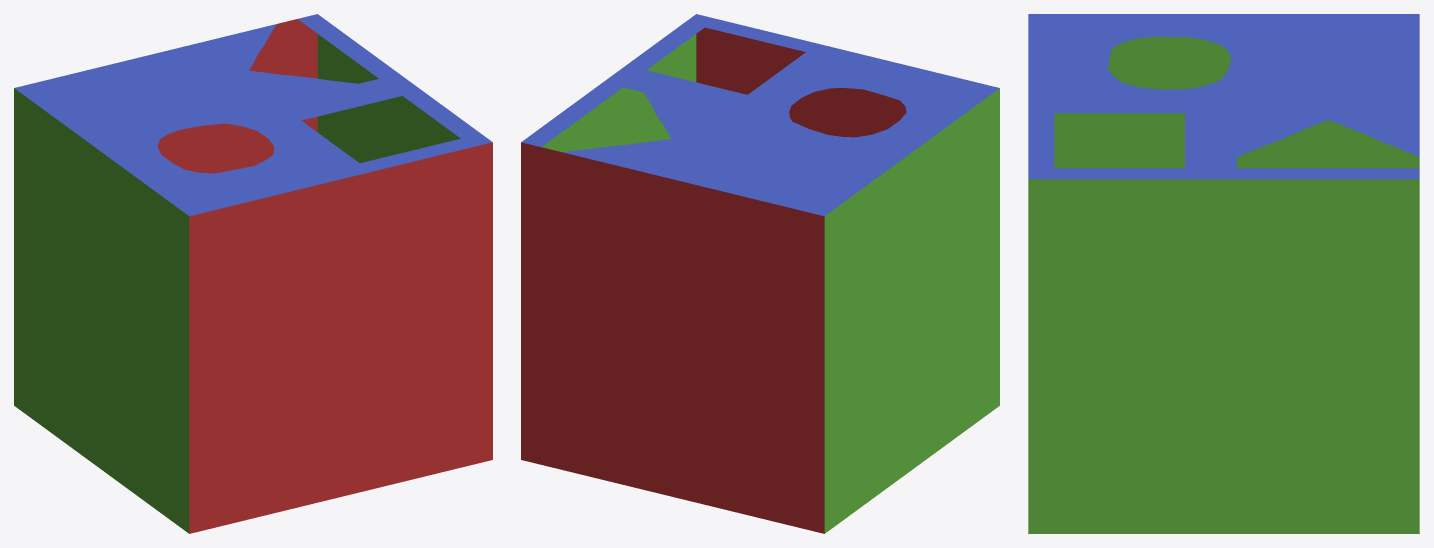
The picture shows the model from 3 angles, left to right: view 1: azimuth 30°, elevation 25°; view 2: azimuth 150°, elevation 25°; view 3: azimuth 270°, elevation 25°; orthographic projection. The views are drawn at different scales.
Parts seen in each view (by area): view 1: Box; view 2: Box; view 3: Box.
Boxes of the visible parts, x1,y1,x2,y2 form: Box: (14,14,492,533); Box: (521,14,999,533); Box: (1028,14,1419,533).
Bounding box in the file's own units: 40 × 40 × 40.
